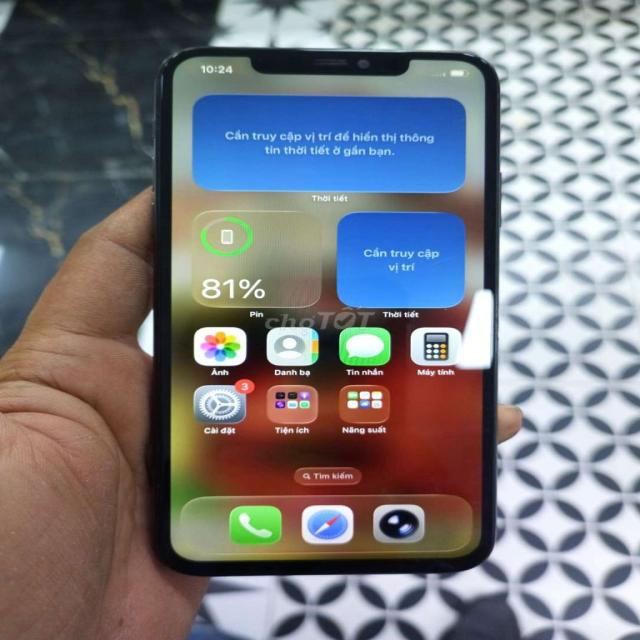gen_11: (143, 39, 504, 576)
